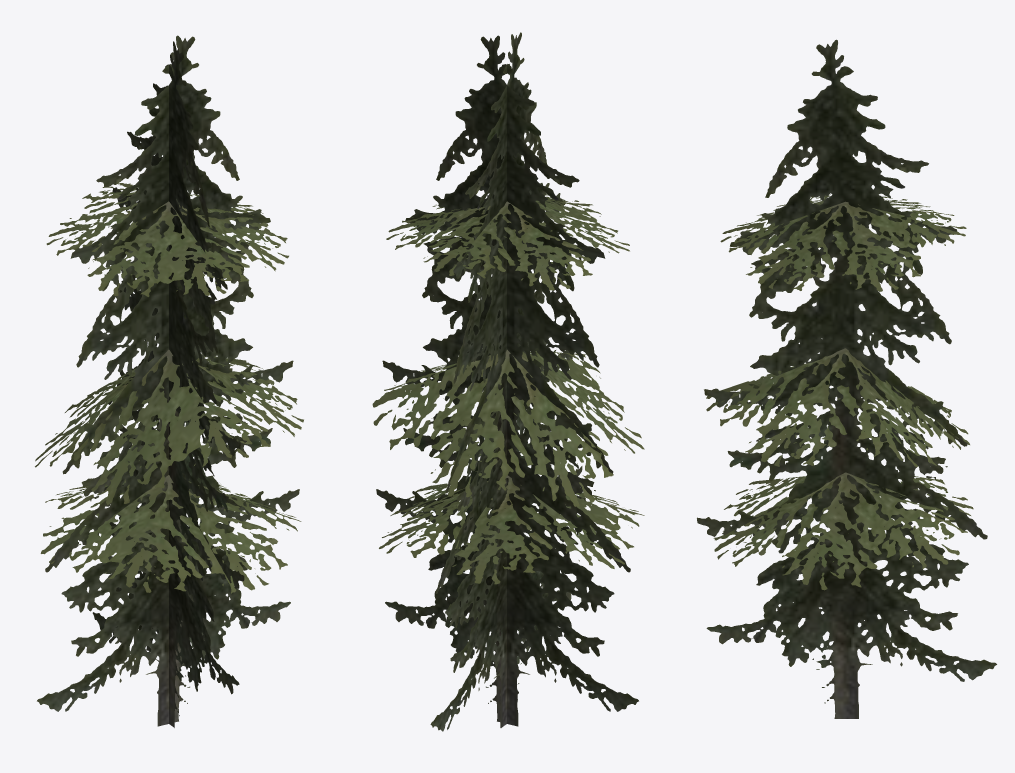
Rendered from Background_Tree_Atlas_002_alt.glb.
The picture shows the model from 3 angles, left to right: view 1: azimuth 30°, elevation 25°; view 2: azimuth 150°, elevation 25°; view 3: azimuth 270°, elevation 25°; orthographic projection.
Visible parts, largest first — view 1: Background_Tree_Atlas.002; view 2: Background_Tree_Atlas.002; view 3: Background_Tree_Atlas.002.
Boxes of the visible parts, left/top/right/bottom form: Background_Tree_Atlas.002: left=35, top=35, right=303, bottom=727; Background_Tree_Atlas.002: left=372, top=32, right=644, bottom=731; Background_Tree_Atlas.002: left=697, top=39, right=996, bottom=718.
Bounding box in the file's own units: 743 × 1822 × 744.
1 material, 1 textured.
